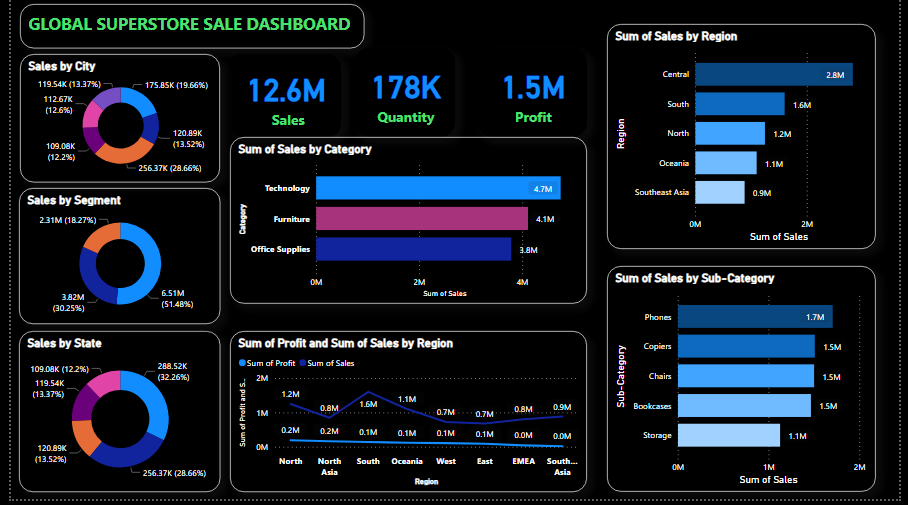

What the dashboard file says about the page in this screenshot:
{"tool":"powerbi","page":{"name":"Page 1","canvas":[1280,720],"ordinal":0},"visuals":[{"type":"textbox","box":[13.1,6.5,496,63.8],"z":0},{"type":"card","fields":{"Values":["Sum(Global Superstore csv (1).Sales)"]},"box":[315.4,79.2,159.8,119.5],"z":1000},{"type":"card","fields":{"Values":["Sum(Global Superstore csv (1).Quantity)"]},"box":[495.4,70.6,144,128.2],"z":2000},{"type":"card","fields":{"Values":["Sum(Global Superstore csv (1).Profit)"]},"box":[672.5,70.6,157,128.2],"z":3000},{"type":"barChart","fields":{"Category":["Global Superstore csv (1).Category"],"Y":["Sum(Global Superstore csv (1).Sales)"]},"box":[315.4,198.7,514.1,240.5],"z":4000},{"type":"barChart","fields":{"Y":["Sum(Global Superstore csv (1).Sales)"],"Category":["Global Superstore csv (1).Region"]},"box":[858.2,36,387.4,324],"z":5000},{"type":"donutChart","fields":{"Y":["Sum(Global Superstore csv (1).Sales)"],"Category":["Global Superstore csv (1).State"]},"box":[11.5,478,289.7,232.4],"z":6000},{"type":"donutChart","fields":{"Series":["Global Superstore csv (1).City"],"Y":["Sum(Global Superstore csv (1).Sales)"]},"box":[13.1,78.6,288.1,185],"z":7000},{"type":"donutChart","fields":{"Y":["Sum(Global Superstore csv (1).Sales)"],"Category":["Global Superstore csv (1).Segment"]},"box":[11.5,271.7,289.7,196.4],"z":8000},{"type":"barChart","fields":{"Y":["Sum(Global Superstore csv (1).Sales)"],"Category":["Global Superstore csv (1).Sub-Category"]},"box":[858.2,384.5,387.4,325.4],"z":9000},{"type":"lineChart","fields":{"Y":["Sum(Global Superstore csv (1).Profit)","Sum(Global Superstore csv (1).Sales)"],"Category":["Global Superstore csv (1).Region"]},"box":[315.4,478.1,514.1,231.8],"z":10000}]}

Visuals, with their boxes in screenshot pixels (x1, y1, x2, y2), scaled from the page's 1280x720 canvas onto the 908x505 screenshot:
textbox: select_region(9, 5, 361, 49)
card - Sum(Global Superstore csv (1).Sales): select_region(224, 56, 337, 139)
card - Sum(Global Superstore csv (1).Quantity): select_region(351, 50, 454, 139)
card - Sum(Global Superstore csv (1).Profit): select_region(477, 50, 588, 139)
barChart - Global Superstore csv (1).Category x Sum(Global Superstore csv (1).Sales): select_region(224, 139, 588, 308)
barChart - Sum(Global Superstore csv (1).Sales) x Global Superstore csv (1).Region: select_region(609, 25, 884, 252)
donutChart - Sum(Global Superstore csv (1).Sales) x Global Superstore csv (1).State: select_region(8, 335, 214, 498)
donutChart - Global Superstore csv (1).City x Sum(Global Superstore csv (1).Sales): select_region(9, 55, 214, 185)
donutChart - Sum(Global Superstore csv (1).Sales) x Global Superstore csv (1).Segment: select_region(8, 191, 214, 328)
barChart - Sum(Global Superstore csv (1).Sales) x Global Superstore csv (1).Sub-Category: select_region(609, 270, 884, 498)
lineChart - Sum(Global Superstore csv (1).Profit) x Sum(Global Superstore csv (1).Sales): select_region(224, 335, 588, 498)
